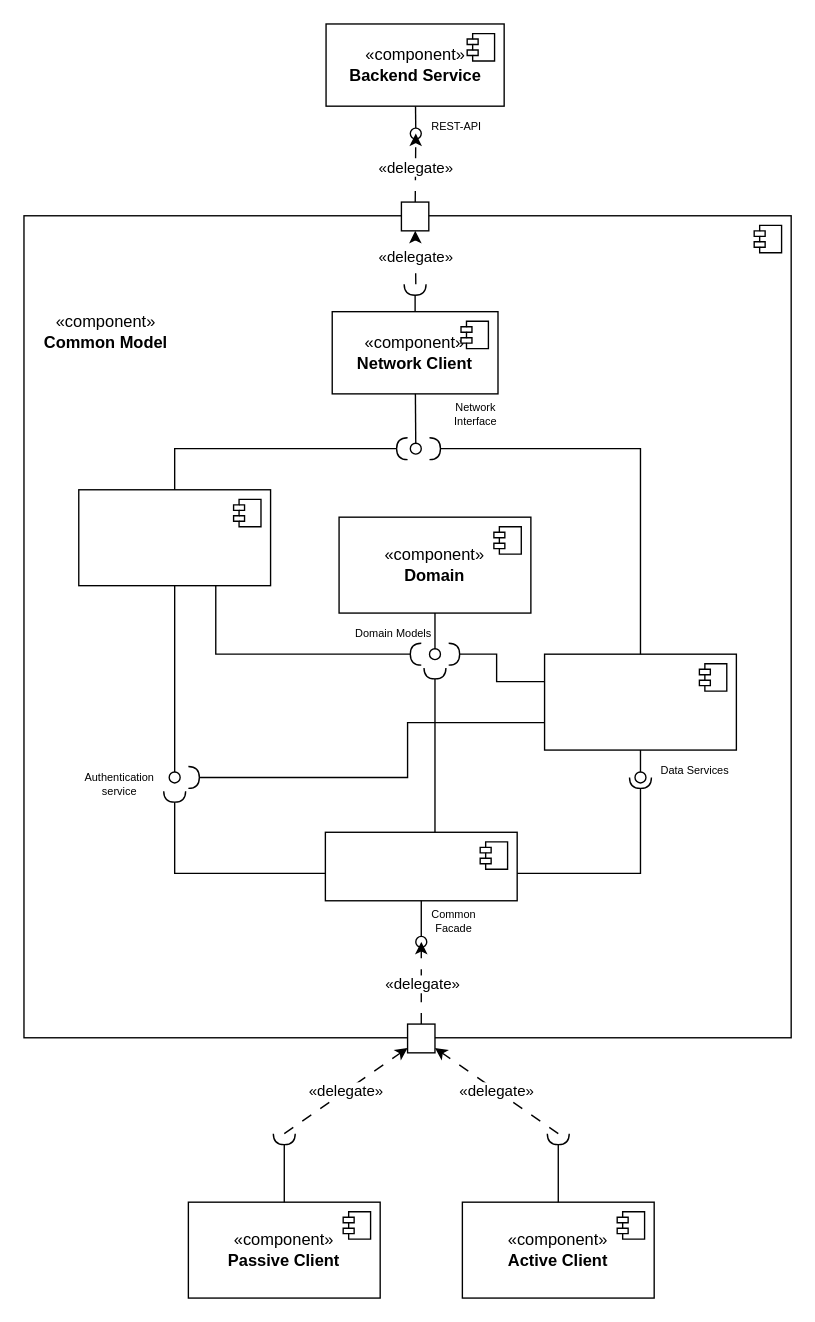
The diagram is 815 pixels wide and 1322 high, and some of its shapes have lost their labels. The shapes that lost their labels are listed below. From the top down, each one's centre as x and y in pixels, then its label:
At (x=174, y=537): "«component» Authentication".
At (x=639, y=701): "«component» Services".
At (x=420, y=866): "«component» Facade".
